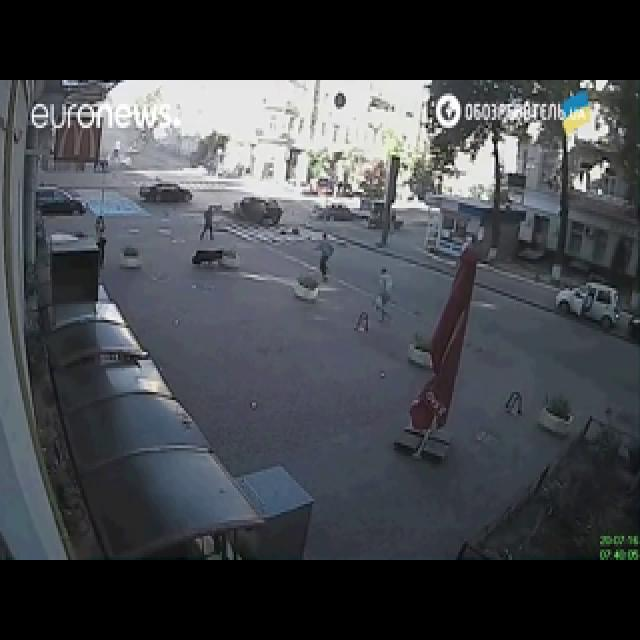explosion: (86, 60, 609, 570)
